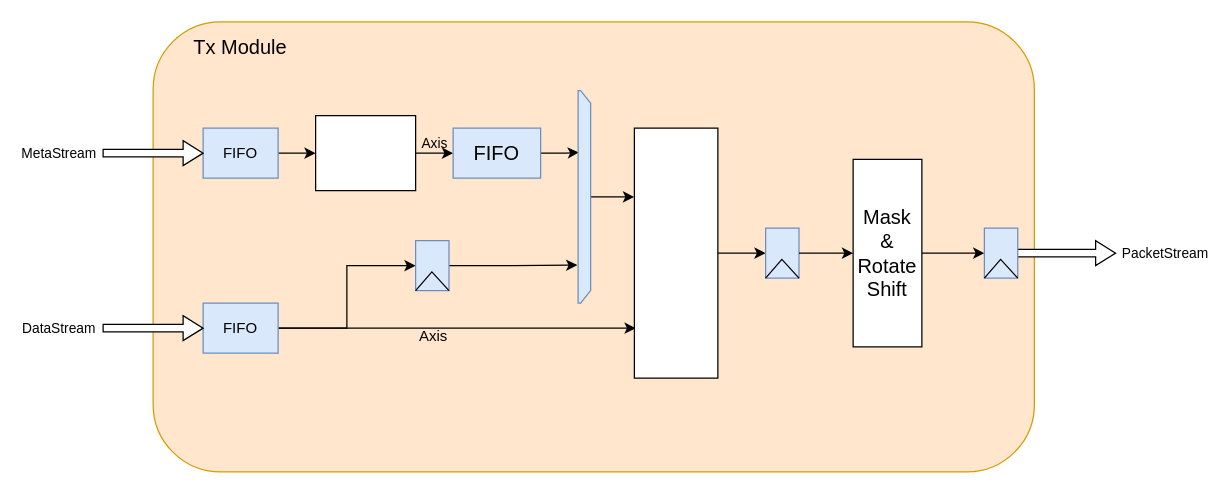
The diagram is 1230 pixels wide and 494 high, and some of its shapes have lost their labels. The shapes that lost their labels are listed below. From the top down, each one's box as (x1, y1, x2, y2) in pixels, then its label:
(314, 114, 416, 191): Header Generator
(633, 127, 718, 378): Cond Join
